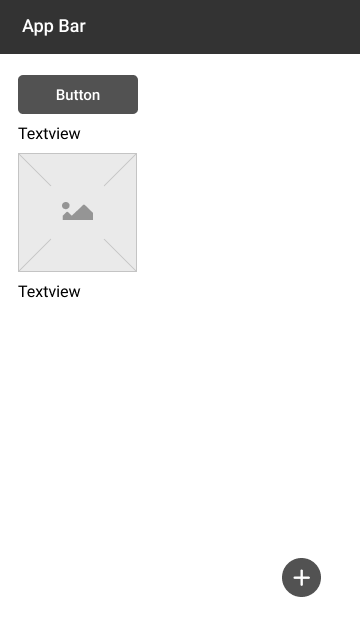button: (17, 74, 139, 115)
floatingButton: (282, 558, 320, 597)
imageView: (15, 150, 139, 275)
textView: (17, 282, 83, 301), (16, 125, 84, 143)
